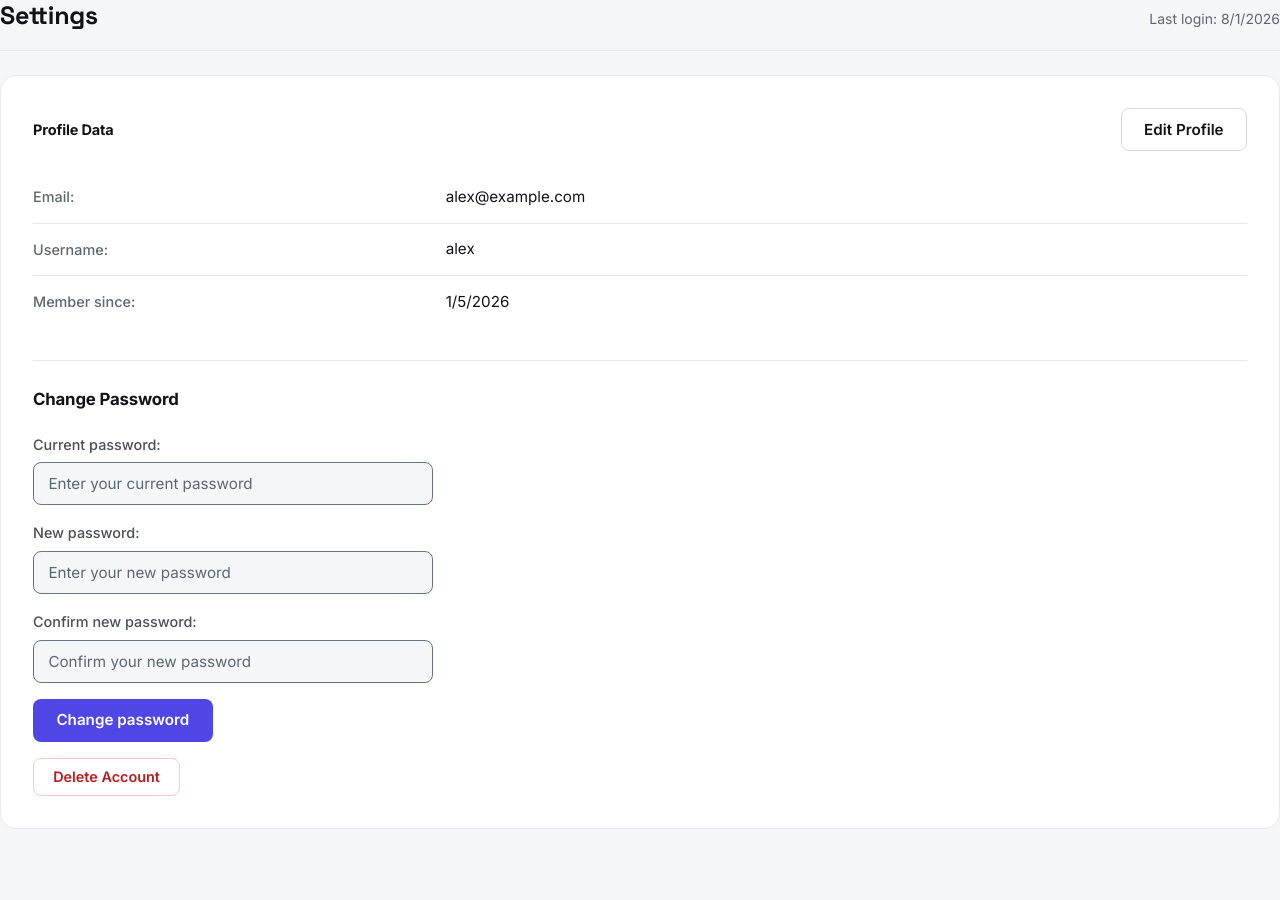
it: Settings › saves on form submit and stops the browser from leaving the page
The width and height of the screenshot is (1280, 900).
Click the button "Edit Profile": x=1184, y=130 x1=1121 y1=108 x2=1247 y2=151
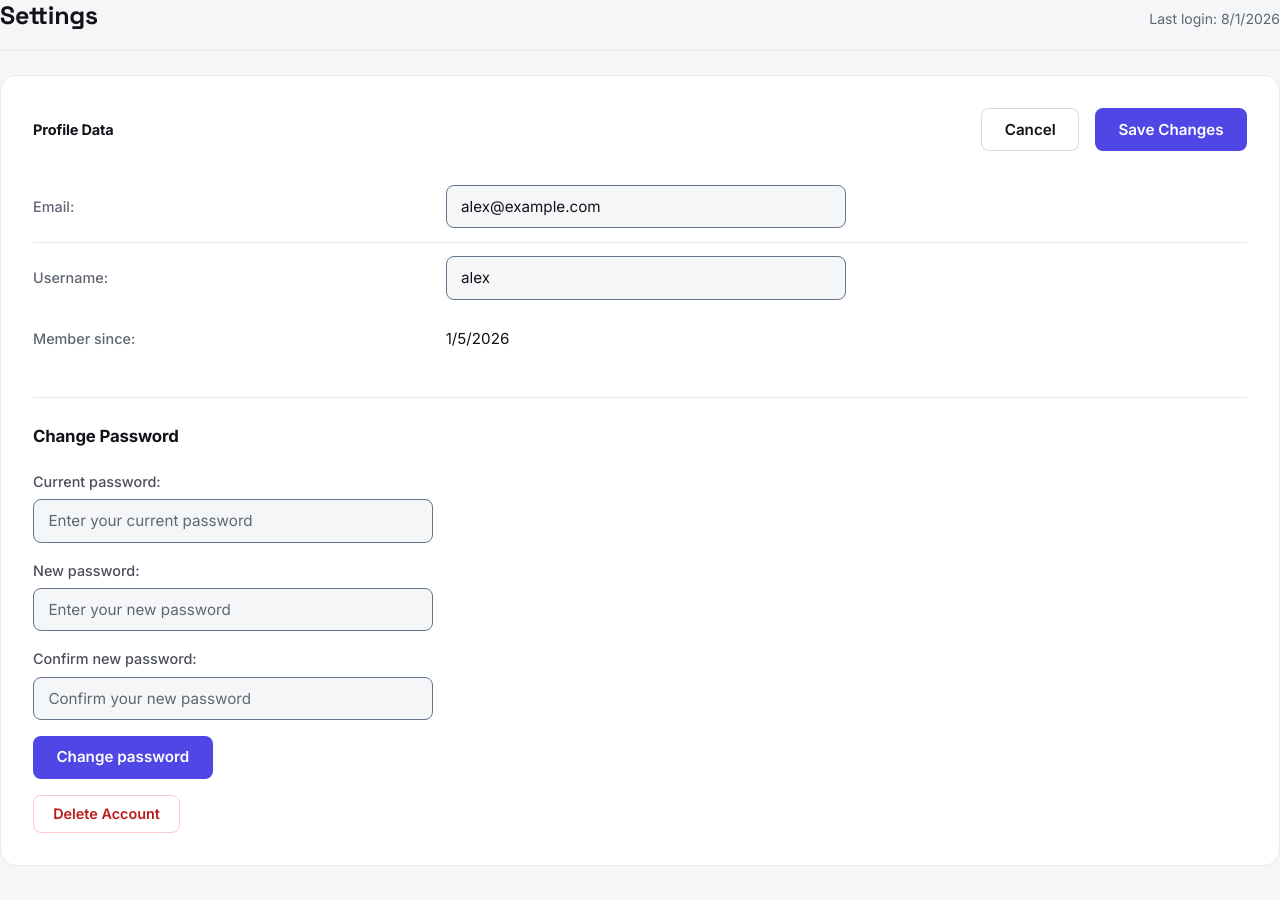
Replace the text in the field labelled "Email:" with "submitted@example.com": x=646, y=206 x1=446 y1=185 x2=846 y2=228
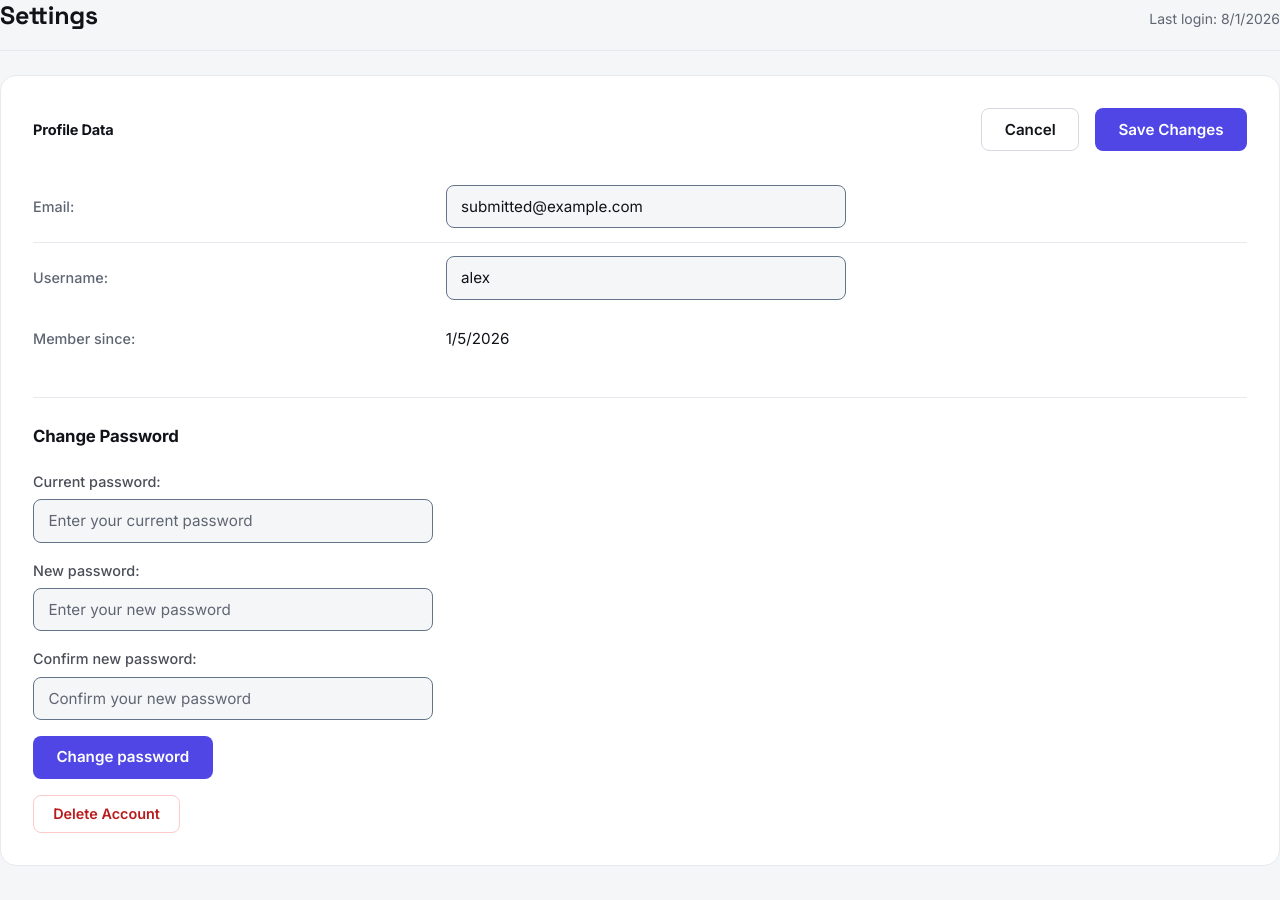
Submit the form labelled "Email:", box x1=33 y1=171 x2=1247 y2=313
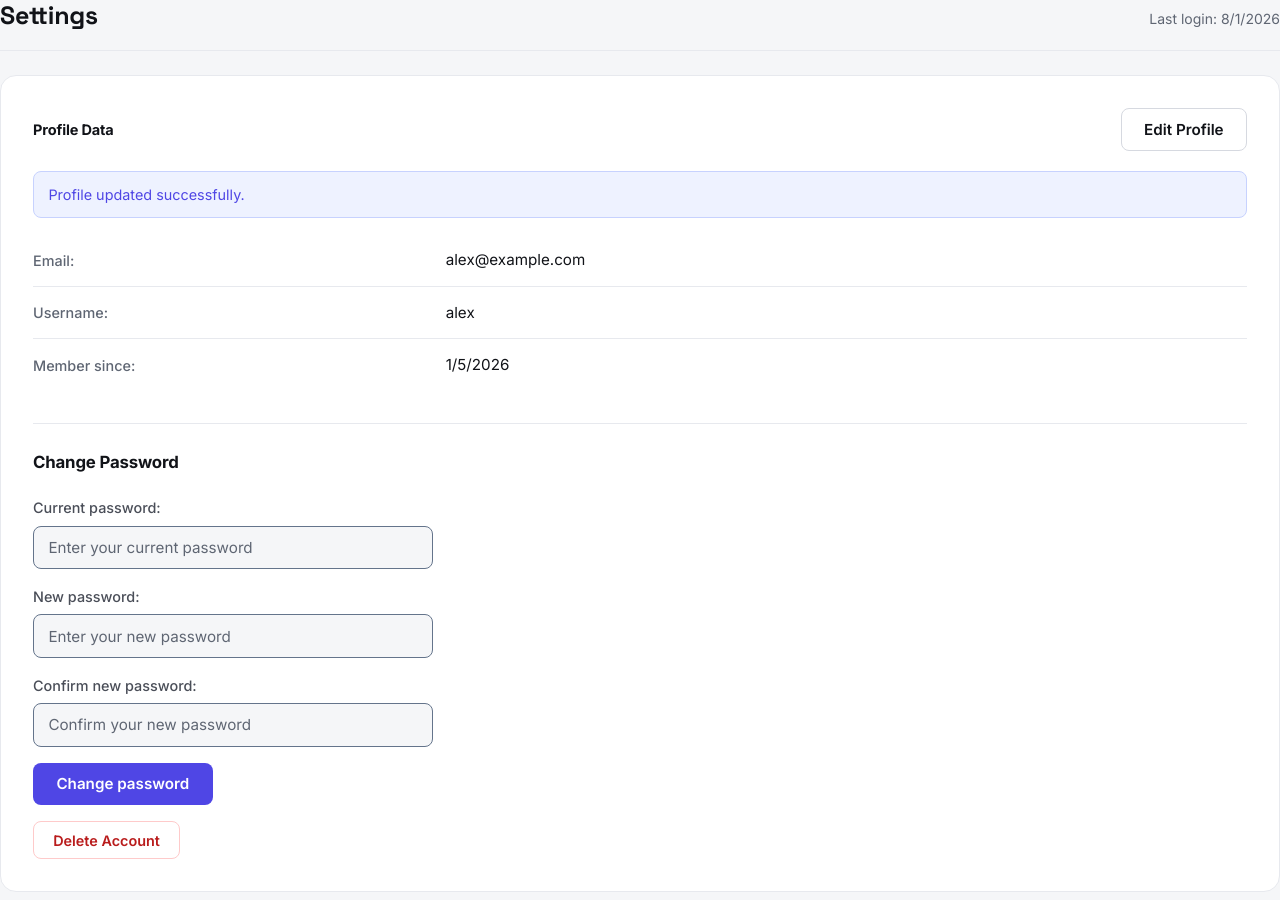
Expected: the text "Profile updated successfully." is shown, x1=33 y1=171 x2=1247 y2=218
